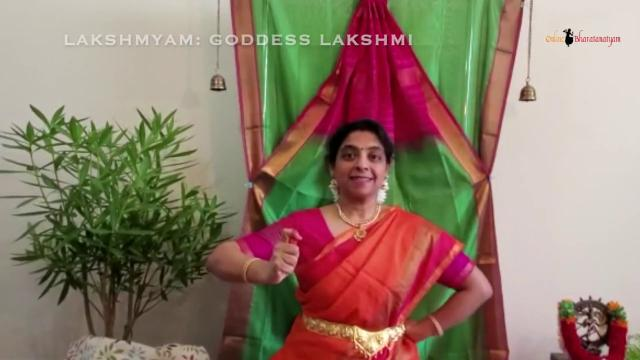kapitth: (262, 221, 318, 288)
